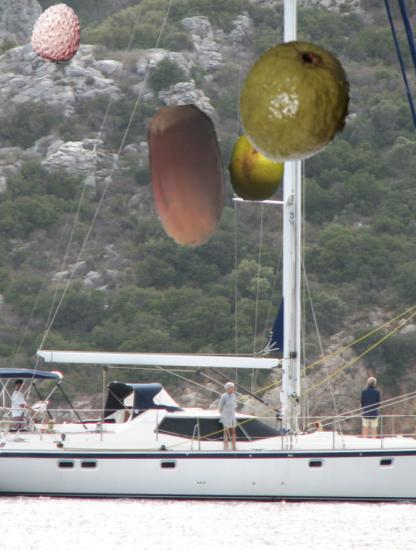Guava: (230, 38, 360, 168)
Hazelnut: (113, 105, 260, 252)
Lychee: (27, 3, 87, 63)
Pomelo: (220, 131, 294, 205)
